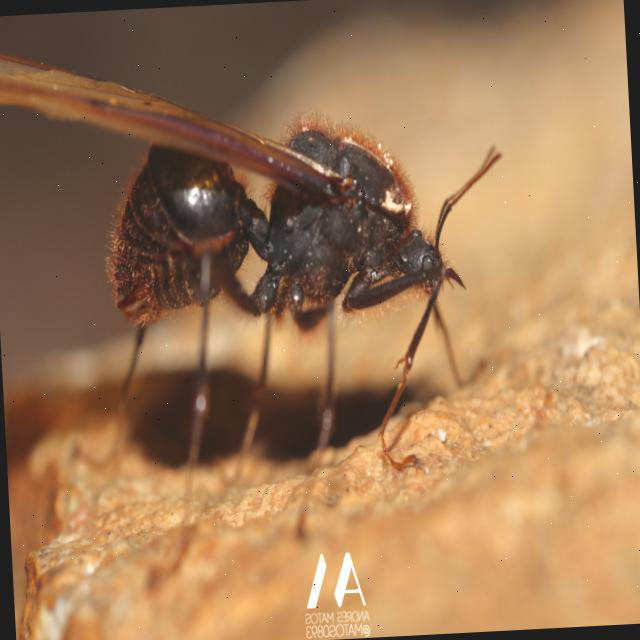Alive-Male-Alate: (0, 18, 525, 604)
